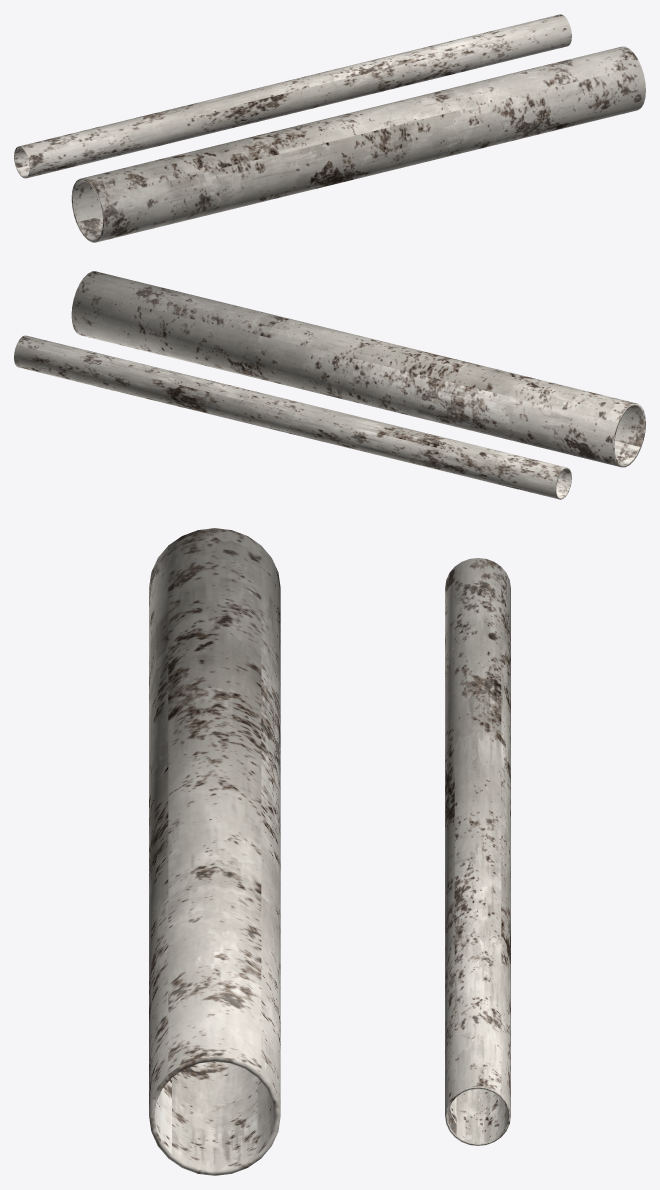
The model's file is MetalTube.glb.
The picture shows the model from 3 angles, top to bottom: view 1: azimuth 30°, elevation 25°; view 2: azimuth 150°, elevation 25°; view 3: azimuth 270°, elevation 25°; orthographic projection. The views are drawn at different scales.
Parts seen in each view (by area): view 1: MetalPipe, MetalPipe.001; view 2: MetalPipe, MetalPipe.001; view 3: MetalPipe, MetalPipe.001.
Part boxes in pixels (left/top/right/bottom): MetalPipe: left=71, top=46, right=645, bottom=242; MetalPipe.001: left=14, top=14, right=571, bottom=178; MetalPipe: left=71, top=271, right=645, bottom=467; MetalPipe.001: left=14, top=335, right=571, bottom=499; MetalPipe: left=149, top=528, right=280, bottom=1175; MetalPipe.001: left=445, top=558, right=510, bottom=1145.
Bounding box in the file's own units: 4.75 × 0.5 × 1.38.
Materials: 1 (1 with a texture image).
